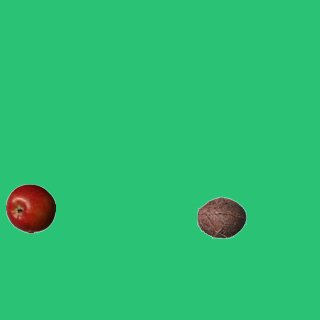Apple Braeburn: (5, 183, 55, 233)
Cocos: (196, 192, 246, 242)
